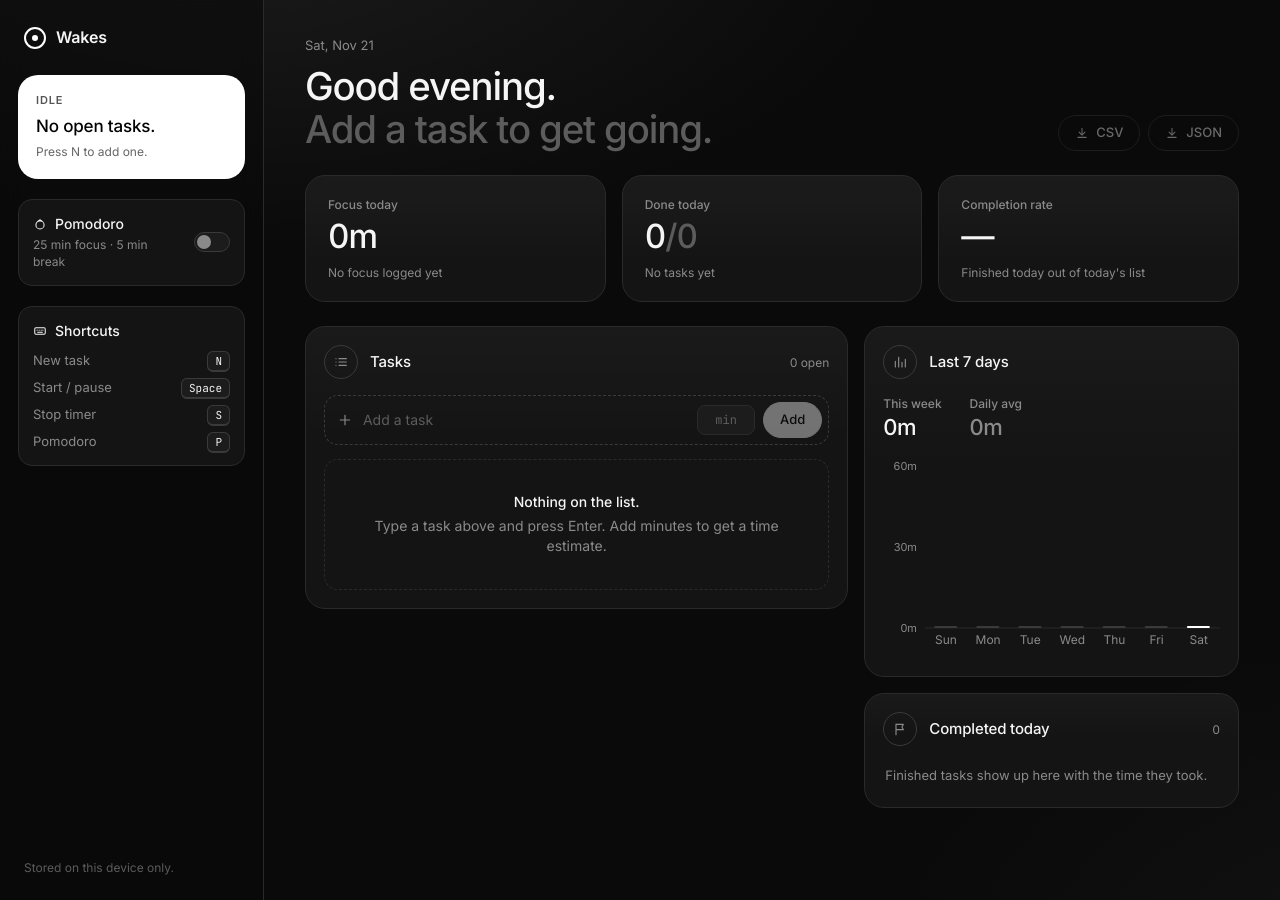
Test case: App › adds a task with Enter and completes it
Expected: the text "Nothing on the list." is shown, [514,493,640,510]
Type "Write docs" into the field named "New task title" at (525,420), box [361,402,689,438]
Then press Enter
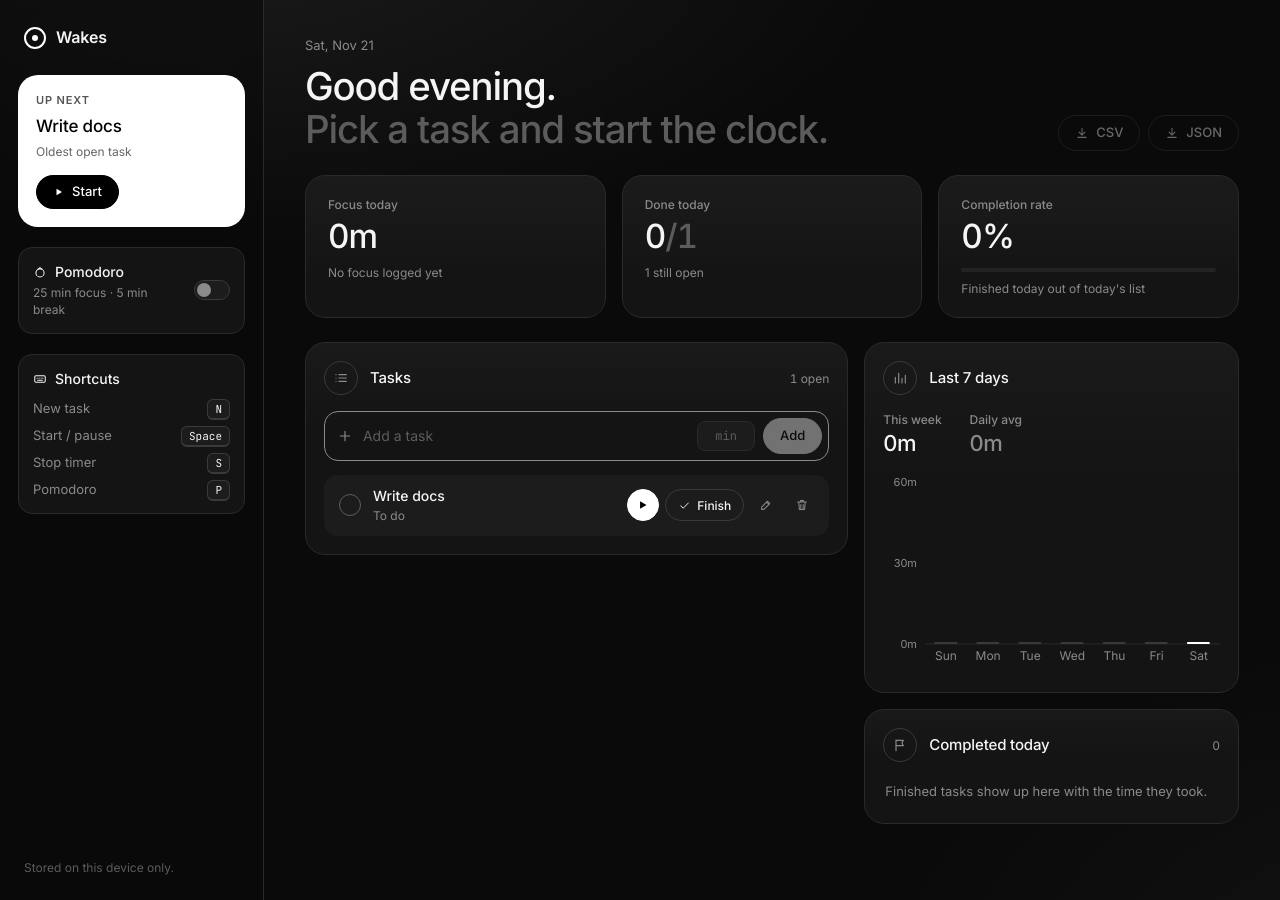
Expected: the field named "New task title" is empty, [361,418,689,454]
Result: the text "Write docs" in the row of "60m" is shown at [373,487,445,504]
Click the button named "Mark \"Write docs\" as done" at (350,505), box [339,494,361,516]
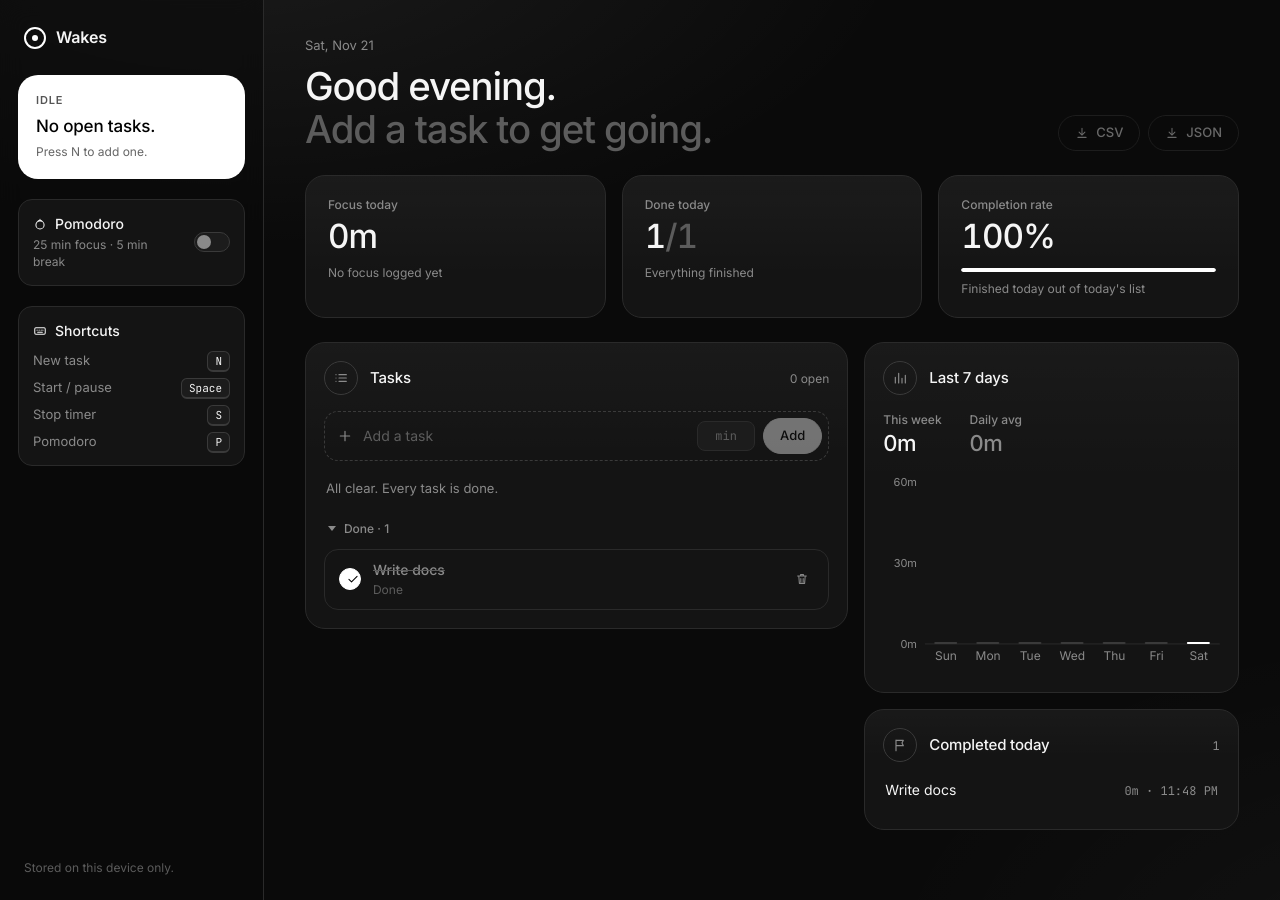
Result: the text "Write docs" below "All clear. Every task is done." is shown at [373,561,445,578]
Result: the element "Done today" shows "1/1" at [622,175,922,318]
Result: the element "Completion rate" shows "100%" at [961,216,1055,256]
